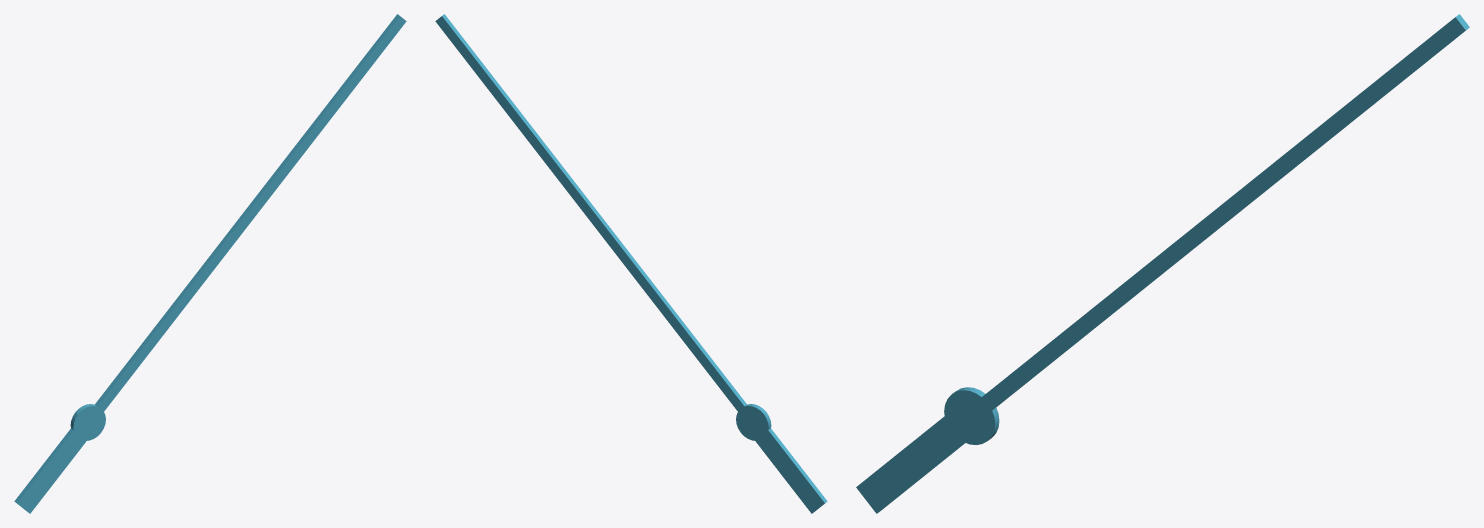
File: original-6.obj
3 renders of one model, left to right at view 1: azimuth 30°, elevation 25°; view 2: azimuth 150°, elevation 25°; view 3: azimuth 330°, elevation 25°, orthographic. The views are drawn at different scales.
Visible parts, largest first — view 1: Group7/mesh9/mesh9-geometry#mesh9-geometry; view 2: Group7/mesh9/mesh9-geometry#mesh9-geometry; view 3: Group7/mesh9/mesh9-geometry#mesh9-geometry.
Boxes of the visible parts, box(x1,y1,x2,y2) form: Group7/mesh9/mesh9-geometry#mesh9-geometry: box(14, 14, 406, 513); Group7/mesh9/mesh9-geometry#mesh9-geometry: box(435, 14, 827, 513); Group7/mesh9/mesh9-geometry#mesh9-geometry: box(856, 14, 1469, 513).
Bounding box in the file's own units: 0.4306 × 0.4306 × 0.00516.
